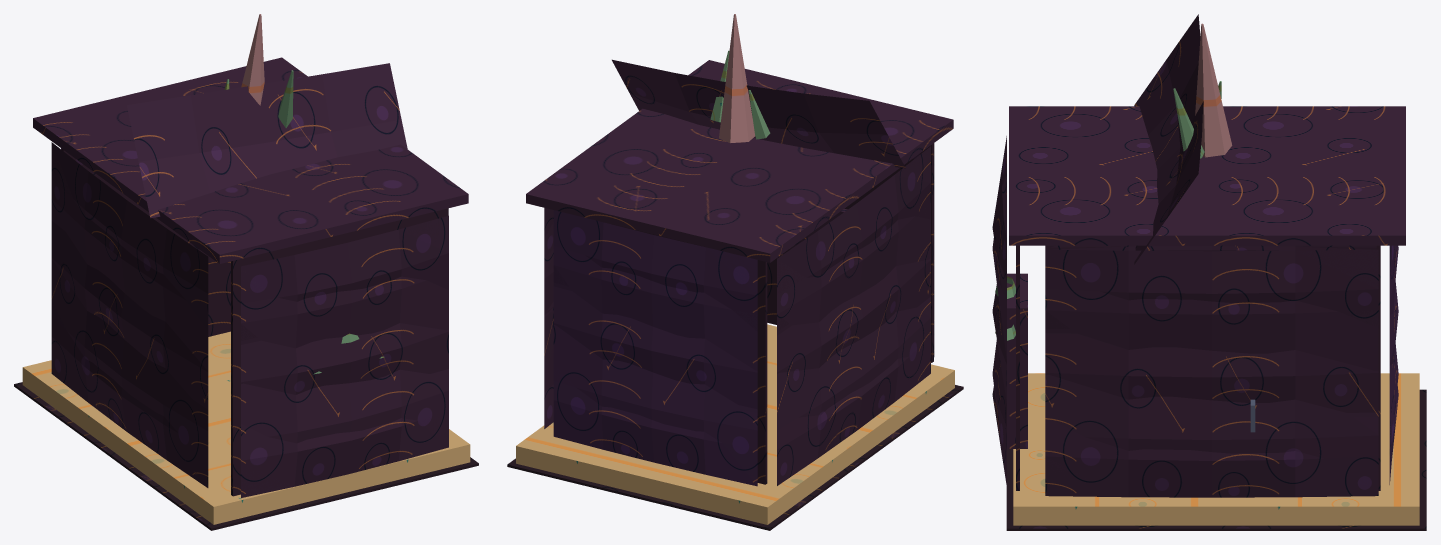
The model's file is env_hut_residential_c.glb.
The picture shows the model from 3 angles, left to right: view 1: azimuth 30°, elevation 25°; view 2: azimuth 150°, elevation 25°; view 3: azimuth 270°, elevation 25°; orthographic projection. The views are drawn at different scales.
Visible parts, largest first — view 1: lod0__hut_c_shell, lod1__hut_c_shell, lod0__hut_c_clay; view 2: lod0__hut_c_shell, lod1__hut_c_shell, lod0__hut_c_clay; view 3: lod0__hut_c_shell, lod1__hut_c_shell, lod0__hut_c_clay.
Part boxes in pixels (box(x1,y1,x2,y2)): lod0__hut_c_shell: box(14, 57, 478, 530); lod1__hut_c_shell: box(51, 142, 448, 497); lod0__hut_c_clay: box(22, 14, 470, 524); lod0__hut_c_shell: box(507, 59, 963, 530); lod1__hut_c_shell: box(544, 147, 934, 485); lod0__hut_c_clay: box(516, 14, 954, 524); lod0__hut_c_shell: box(992, 14, 1426, 530); lod1__hut_c_shell: box(992, 138, 1398, 496); lod0__hut_c_clay: box(995, 23, 1419, 525).
Bounding box in the file's own units: 3.63 × 5.33 × 4.76.
3 materials, 2 textured.
